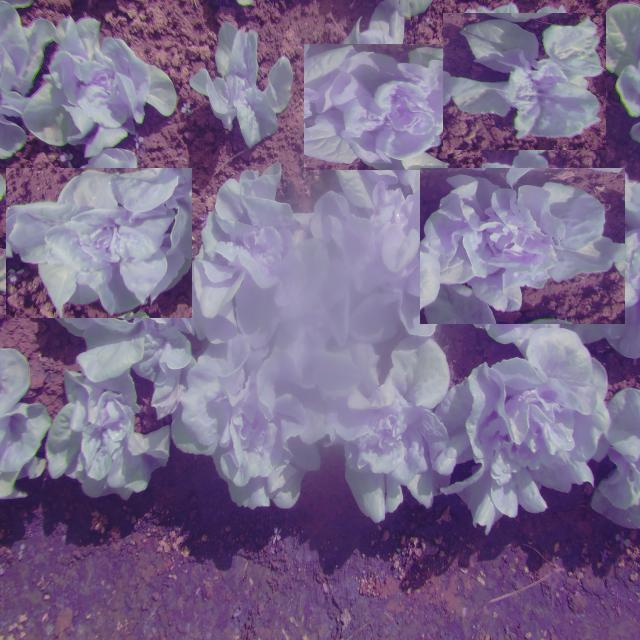vege: (432, 155, 613, 336), (15, 159, 183, 328), (316, 31, 469, 183), (449, 6, 599, 157), (23, 6, 180, 148), (41, 357, 164, 509), (182, 15, 312, 154), (314, 198, 440, 336)
